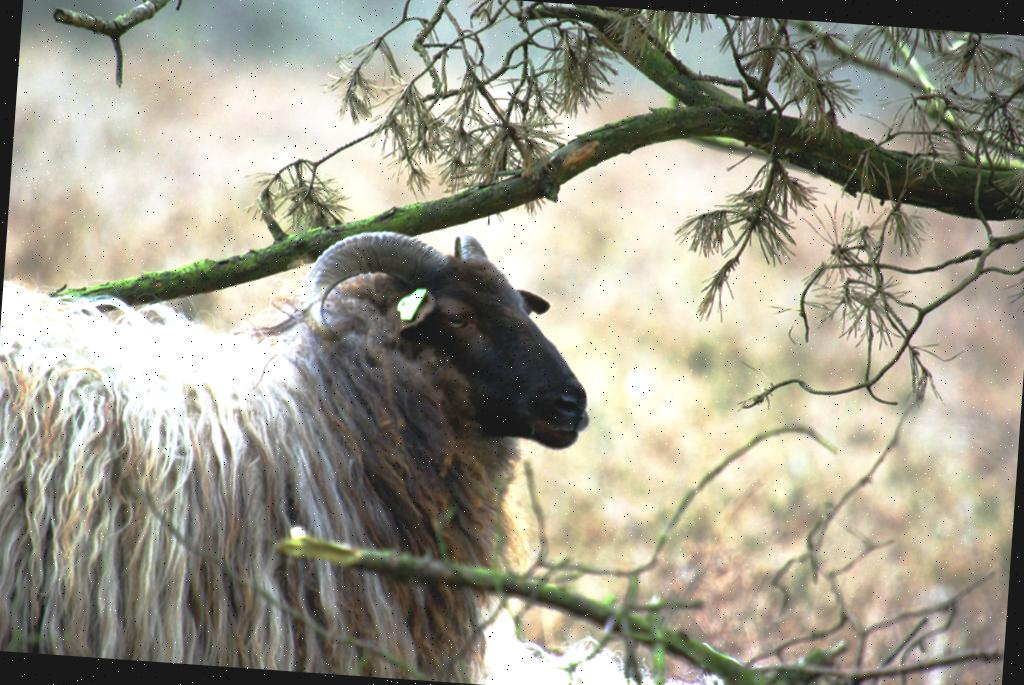Sheep: (0, 202, 598, 685)
